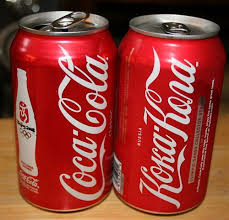can: (110, 12, 226, 219), (9, 9, 112, 214)
